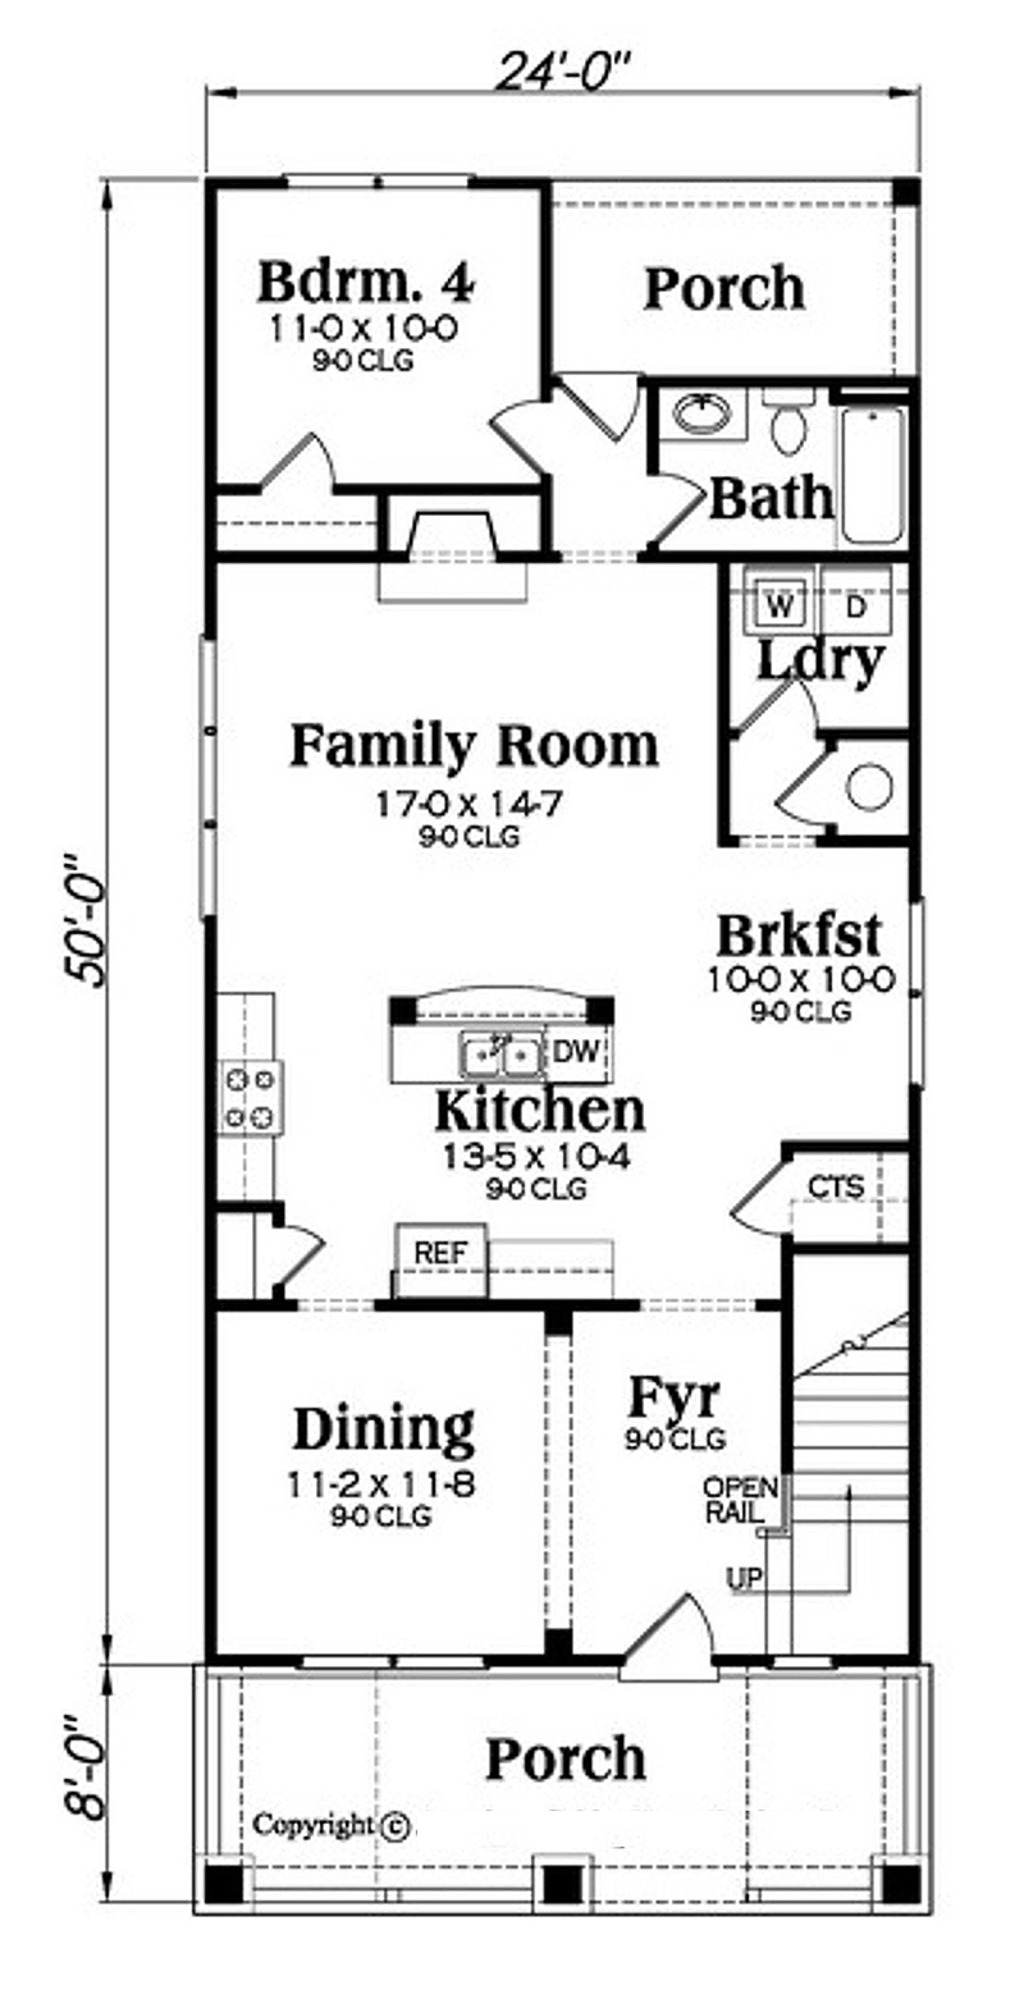door: (613, 1571, 725, 1686), (728, 661, 835, 752), (560, 355, 647, 465), (247, 427, 360, 508), (626, 454, 713, 555), (485, 383, 566, 483), (722, 1152, 799, 1237), (765, 743, 832, 836), (266, 1208, 323, 1293)
stairs: (744, 1252, 927, 1671)
tub: (825, 388, 906, 565)
twin_sink: (422, 1024, 563, 1102)
window: (188, 639, 244, 926), (897, 887, 947, 1082), (276, 157, 469, 201), (291, 1647, 498, 1683)
